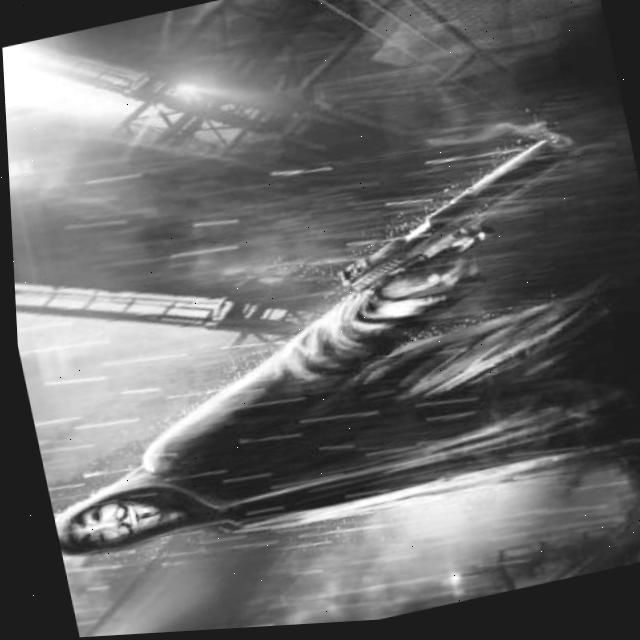gun: (312, 134, 582, 308)
